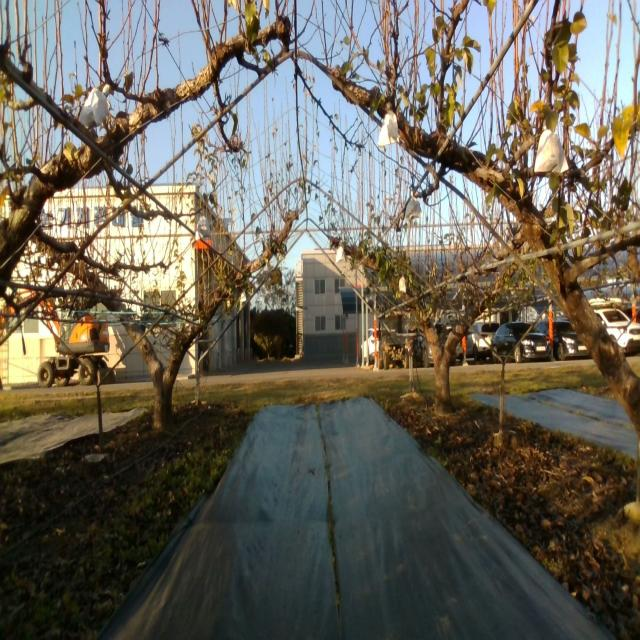pearbags: (533, 128, 569, 174), (78, 83, 111, 128), (377, 108, 400, 147), (403, 190, 423, 224), (195, 216, 212, 240), (336, 246, 346, 264)
